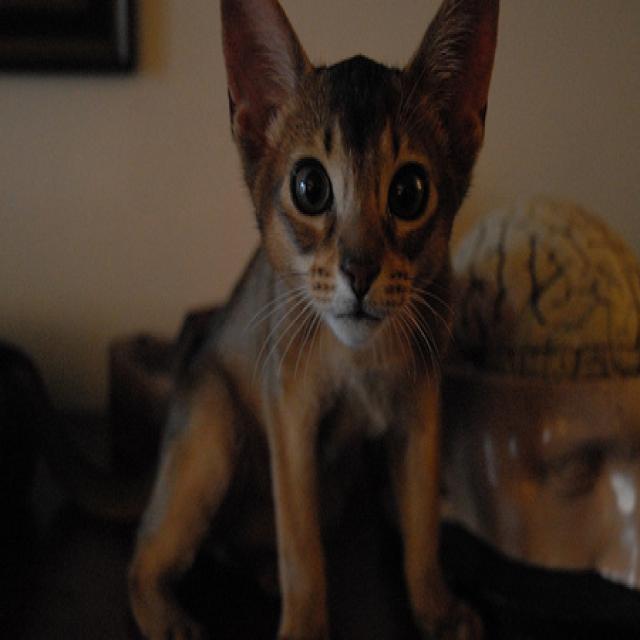Abyssinian: (117, 0, 510, 640)
